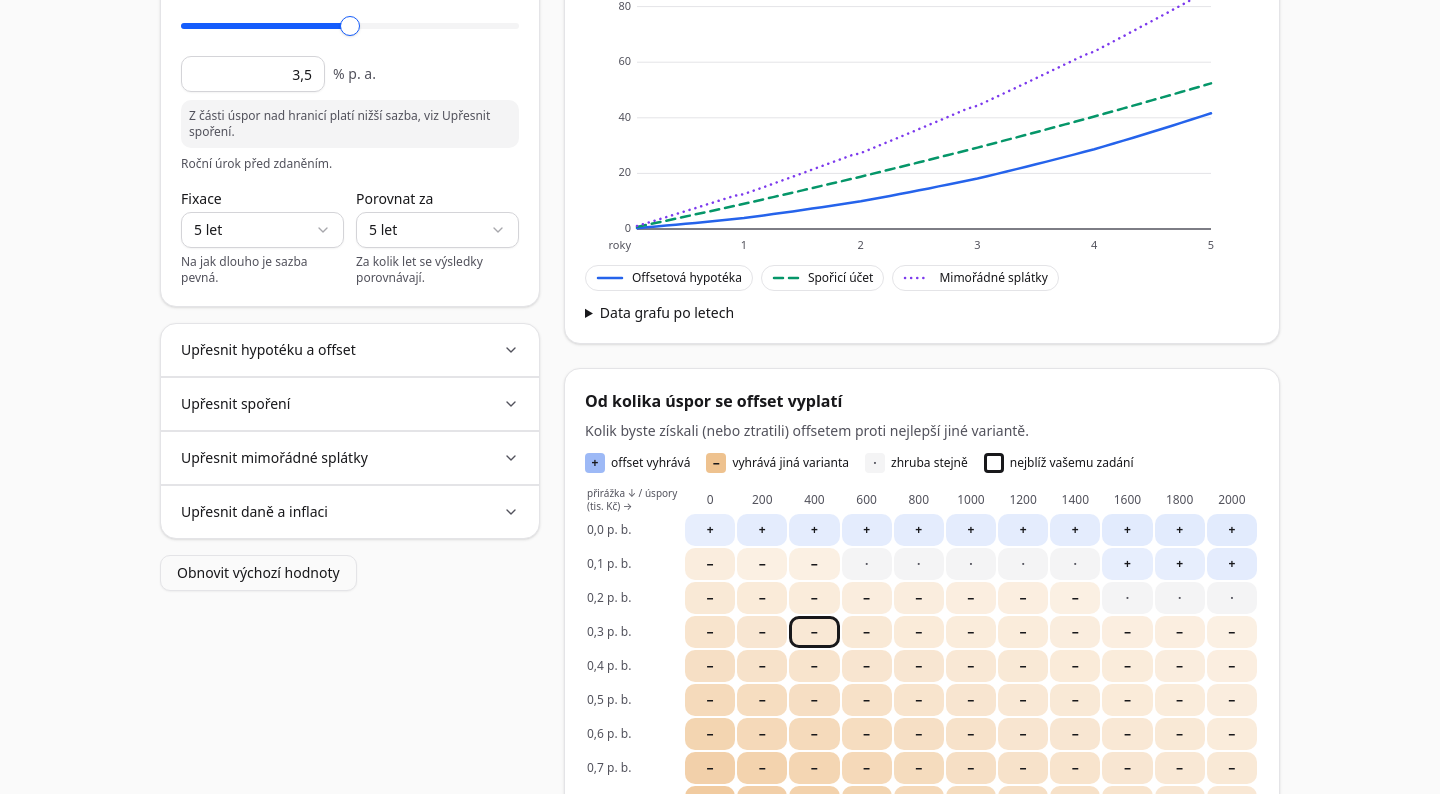
Test: accounts and tiers can be added and removed in the savings section
(page scrolled)
Click the button "Upřesnit spoření": (236, 404) [181,378,519,430]
(page scrolled)
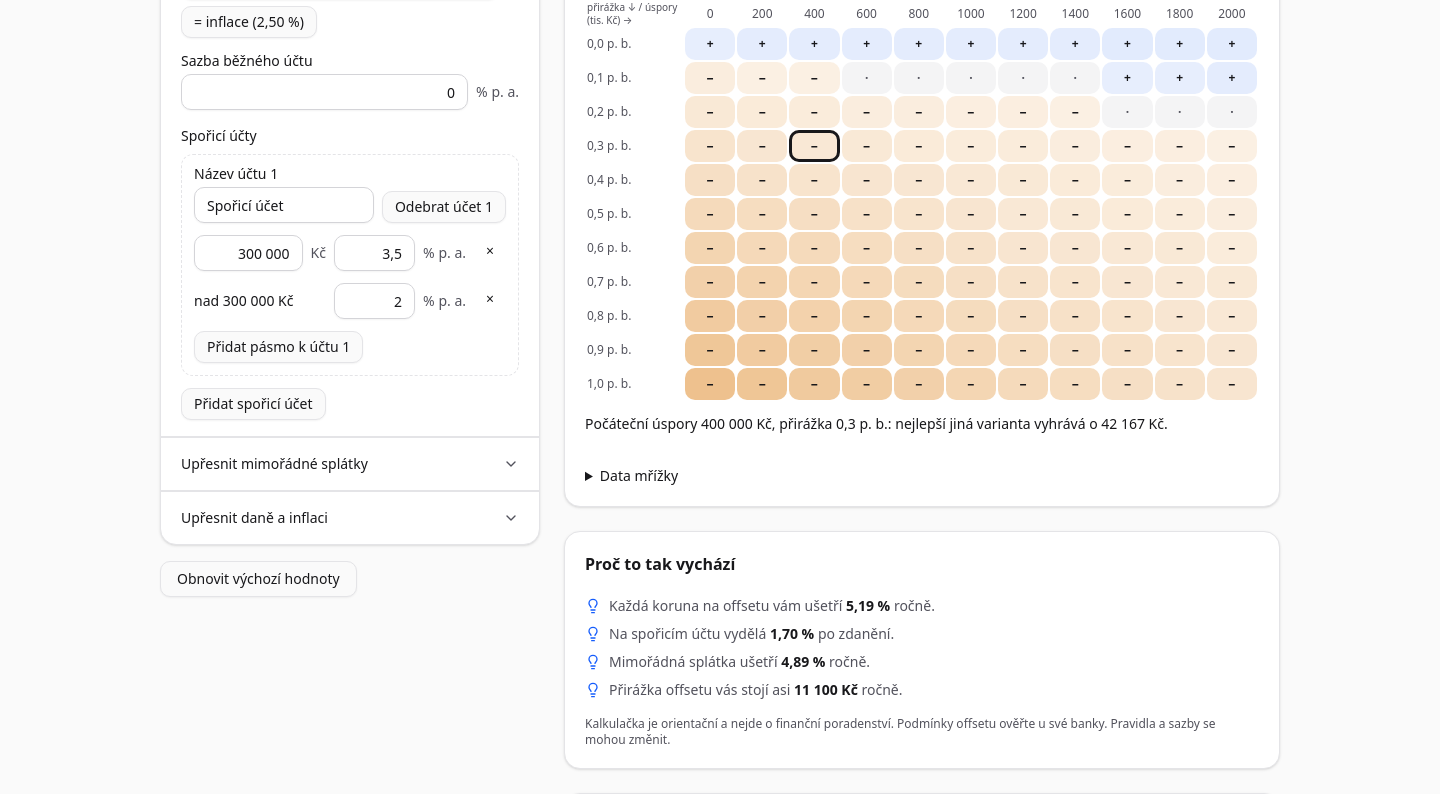
Click the button "Přidat spořicí účet": (253, 404) [181,388,326,420]
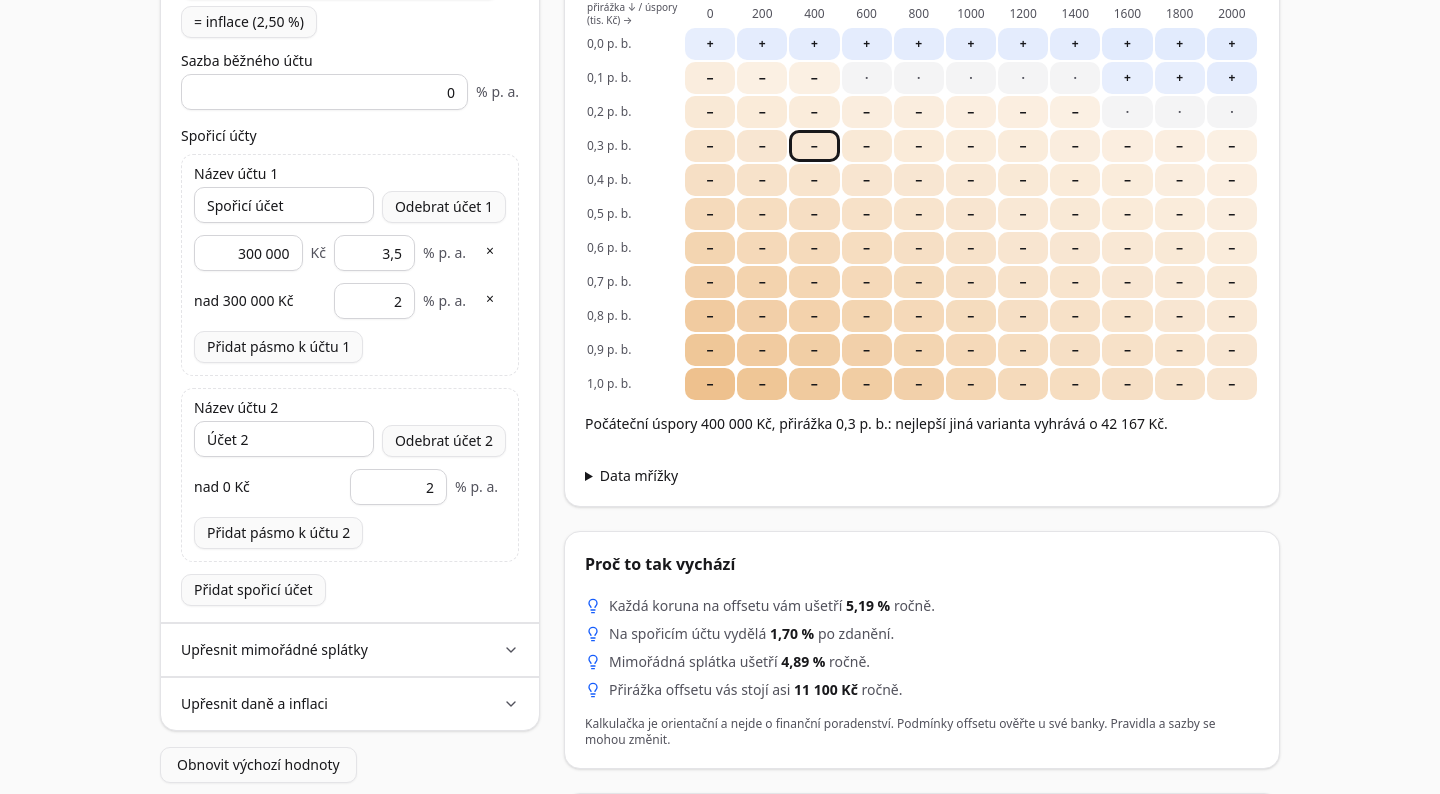
Expected: the field labelled "Název účtu 2" is shown, [194,421,374,457]
Click the button "Přidat pásmo k účtu 2": (279, 533) [194,517,363,549]
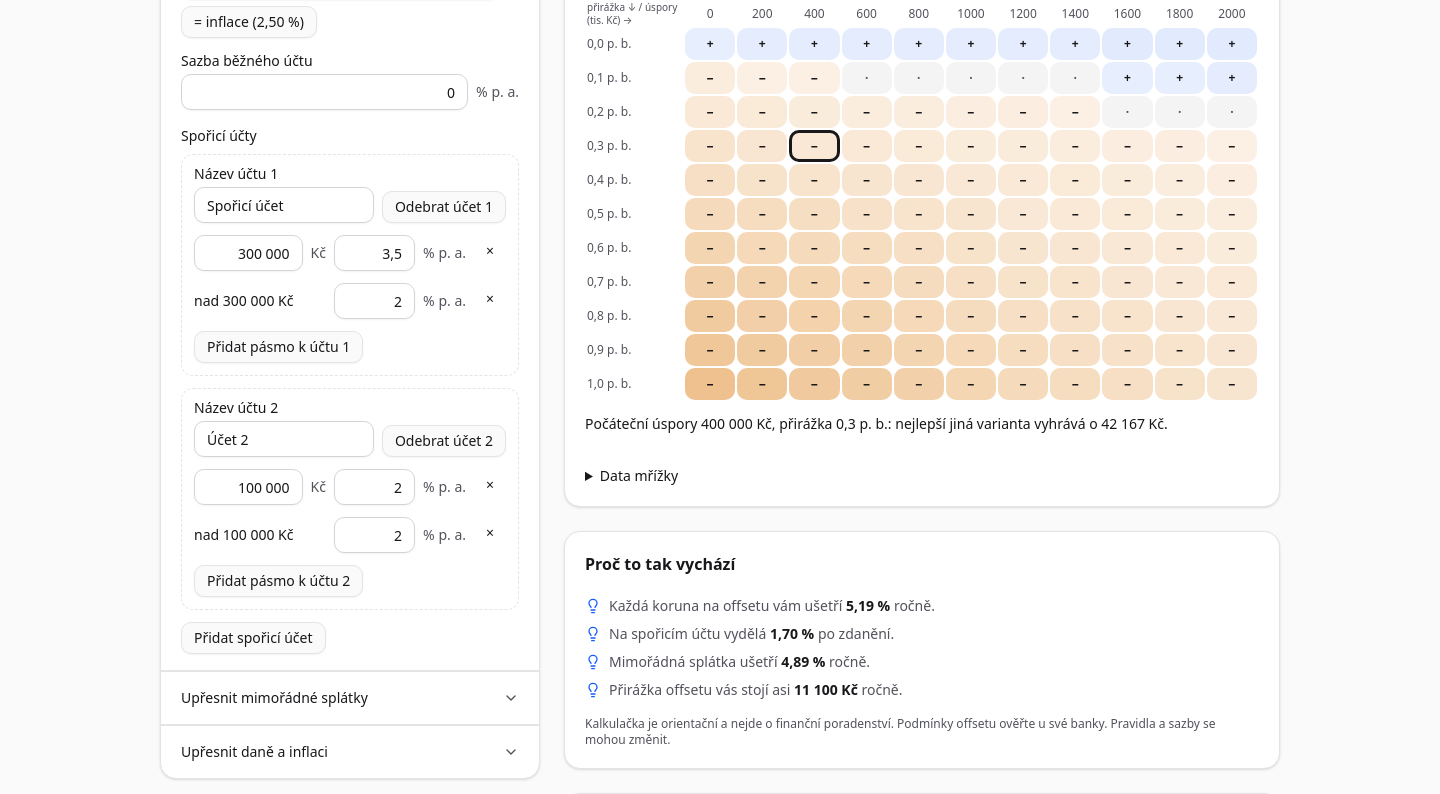
Expected: the 6th field named "Účet 2, pásmo 2: sazba" is shown, [334,517,415,553]
Click the button named "Odebrat pásmo 2 účtu 2": (490, 533) [474,517,506,549]
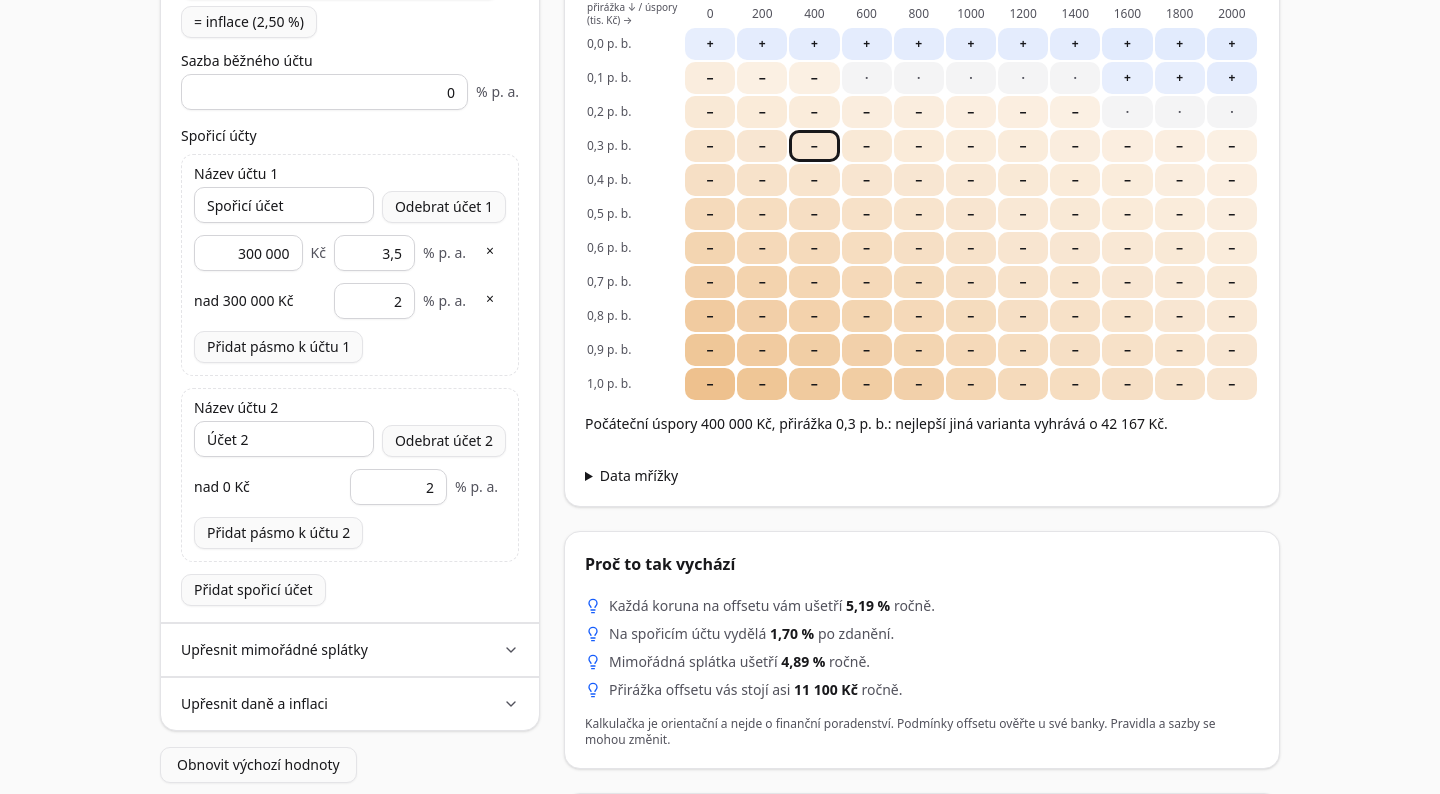
Expected: the field labelled "Účet 2, pásmo 2: sazba" is not shown
Click the button "Odebrat účet 2": (444, 441) [382,425,506,457]
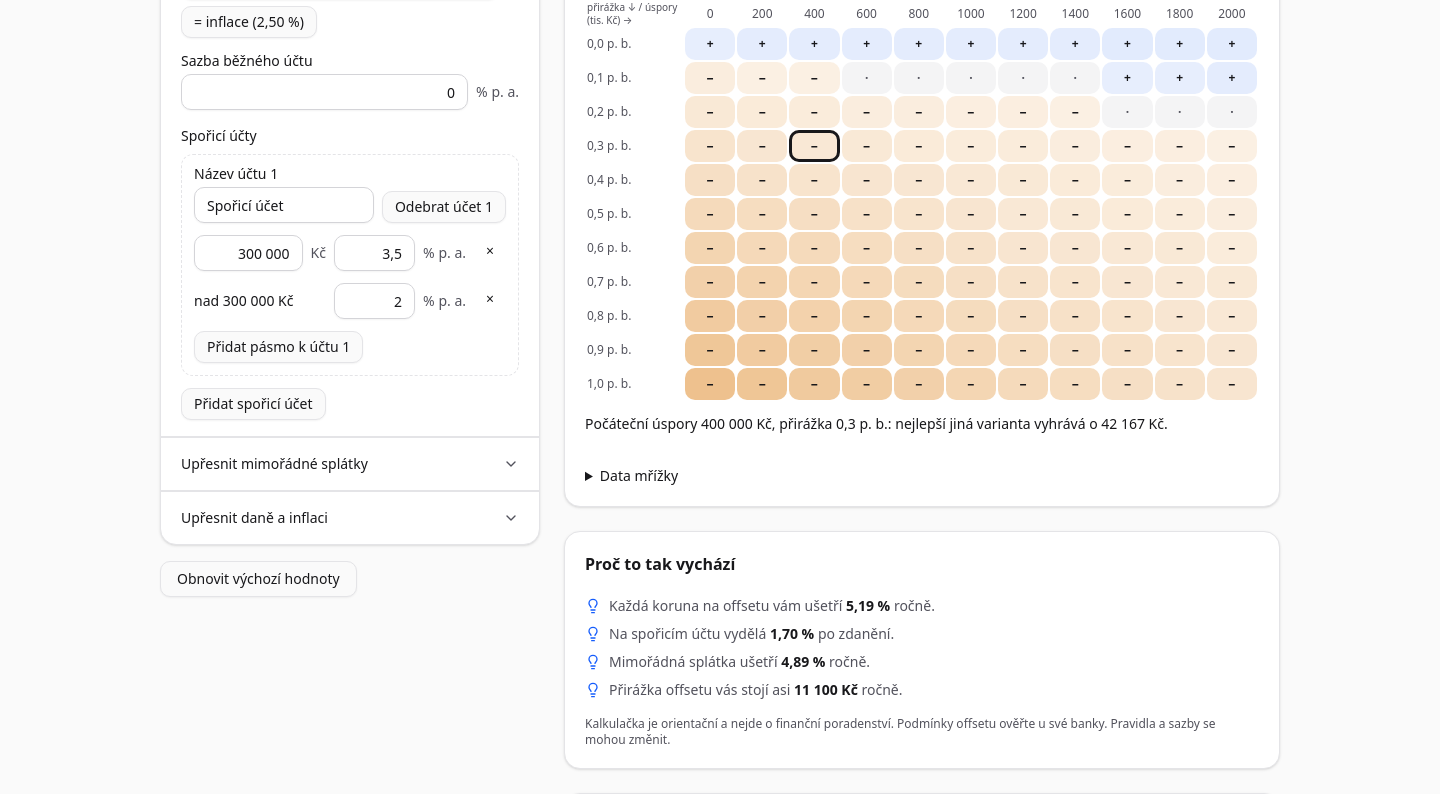
Expected: the label labelled "Název účtu 2" is gone
